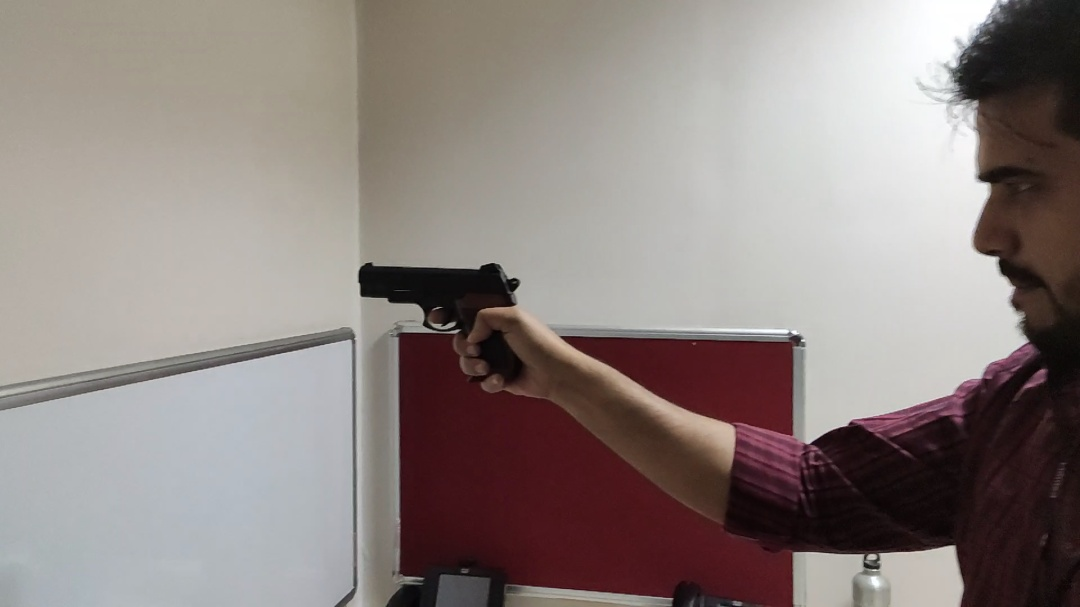gun: (356, 260, 522, 387)
